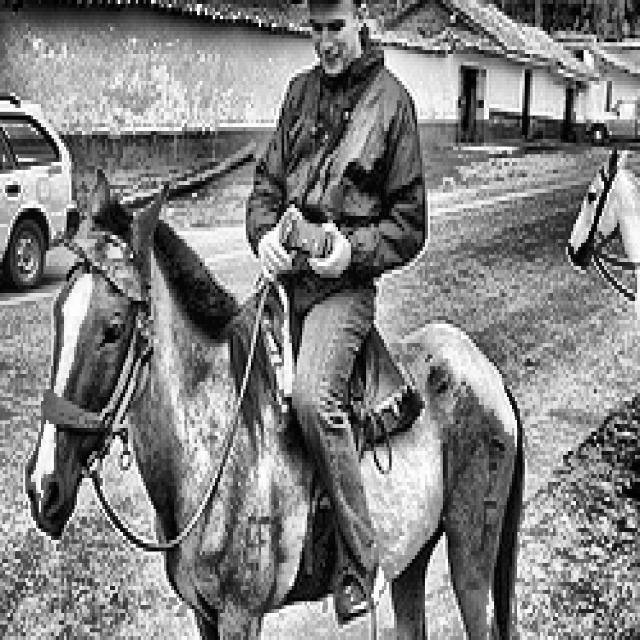light_vehicle: (581, 93, 640, 154)
